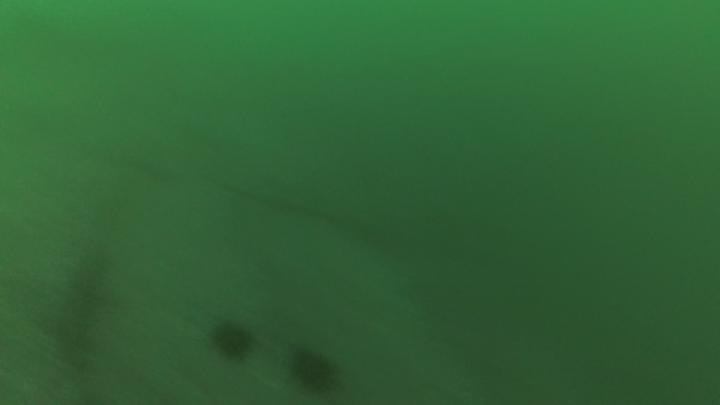echinus: (281, 341, 349, 405), (202, 316, 257, 366)
